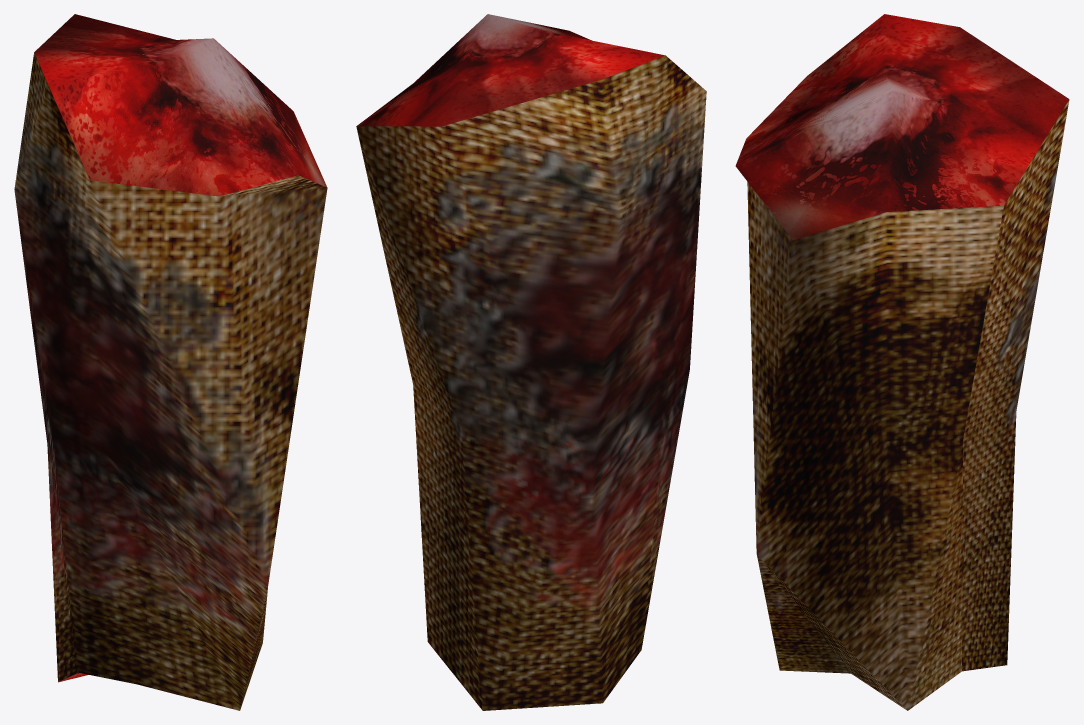
File: rt_upleg.fbx
3 renders of one model, left to right at view 1: azimuth 30°, elevation 25°; view 2: azimuth 150°, elevation 25°; view 3: azimuth 270°, elevation 25°, orthographic. The views are drawn at different scales.
Parts seen in each view (by area): view 1: rt_upleg_gib; view 2: rt_upleg_gib; view 3: rt_upleg_gib.
Boxes of the visible parts, <box> form: rt_upleg_gib: <box>14,14,327,710</box>; rt_upleg_gib: <box>356,14,706,710</box>; rt_upleg_gib: <box>735,14,1069,710</box>.
Size of the model in its own units: 0.2104 by 0.5119 by 0.258.
